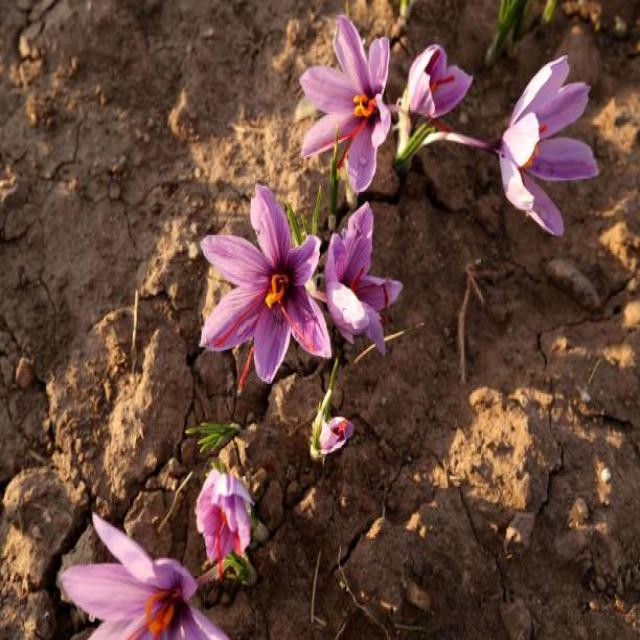saffron open: (202, 185, 331, 383), (62, 512, 228, 639), (496, 57, 598, 235), (301, 14, 391, 189), (325, 204, 402, 354), (198, 471, 250, 569), (196, 470, 252, 560), (409, 44, 472, 117)
